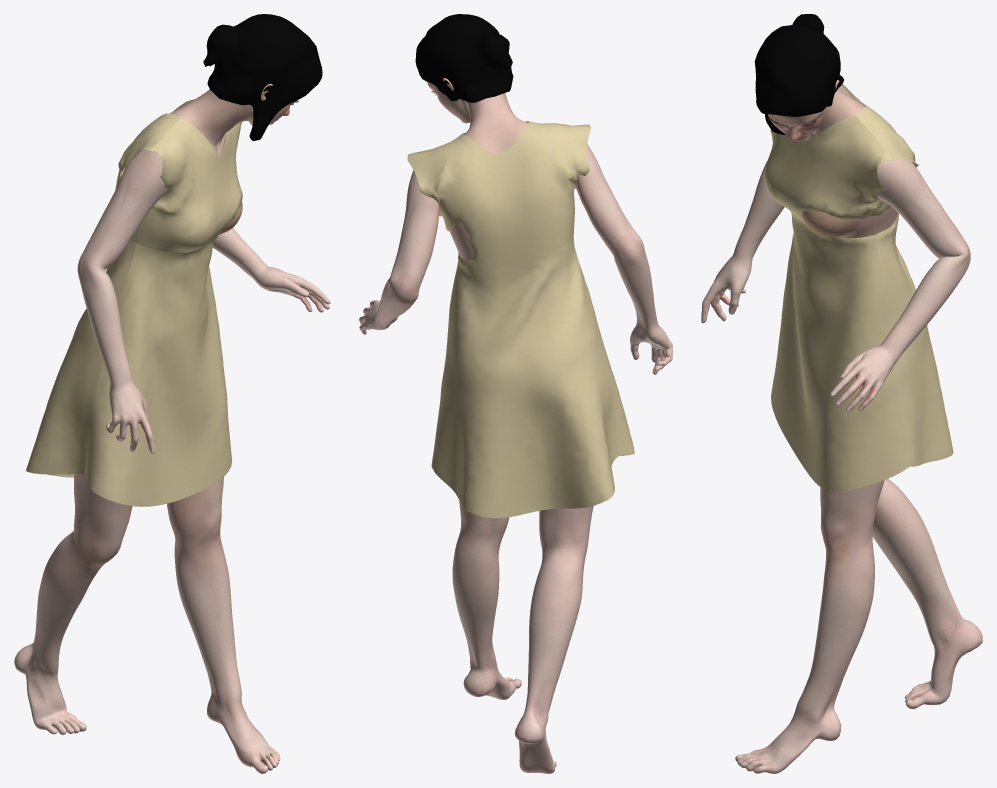
File: random.obj
3 views of the same model, side by side, from view 1: azimuth 30°, elevation 25°; view 2: azimuth 150°, elevation 25°; view 3: azimuth 270°, elevation 25° (orthographic). The views are drawn at different scales.
Bounding box in the file's own units: 704 × 1739 × 590.
